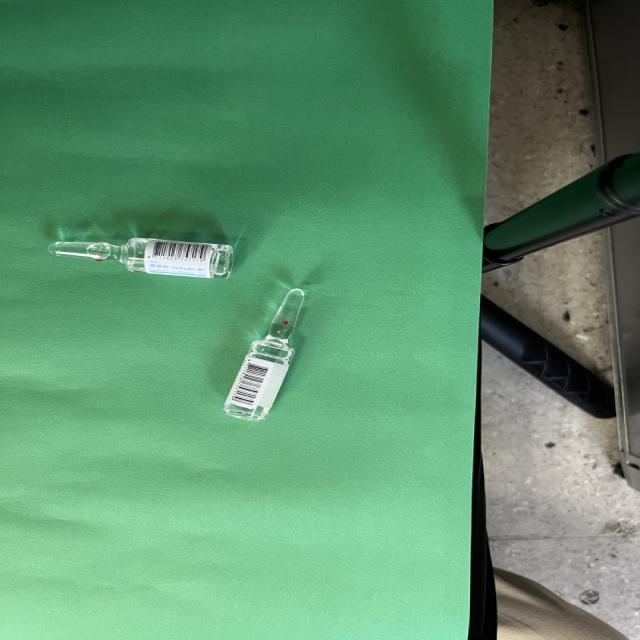Ampoules: (225, 288, 305, 421), (49, 238, 234, 278)
